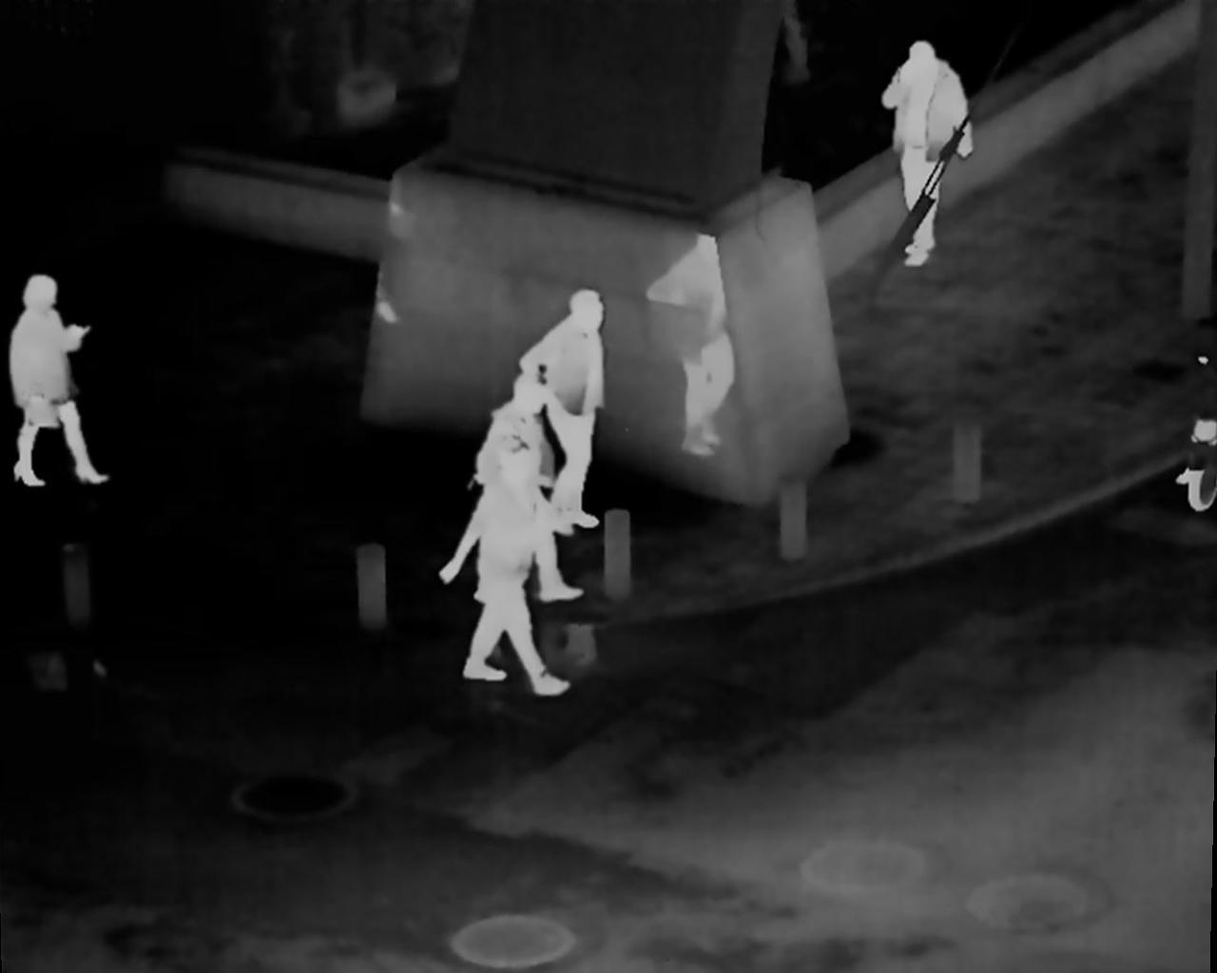person: (442, 447, 570, 701), (474, 368, 586, 607), (519, 270, 602, 540), (880, 41, 972, 259)
